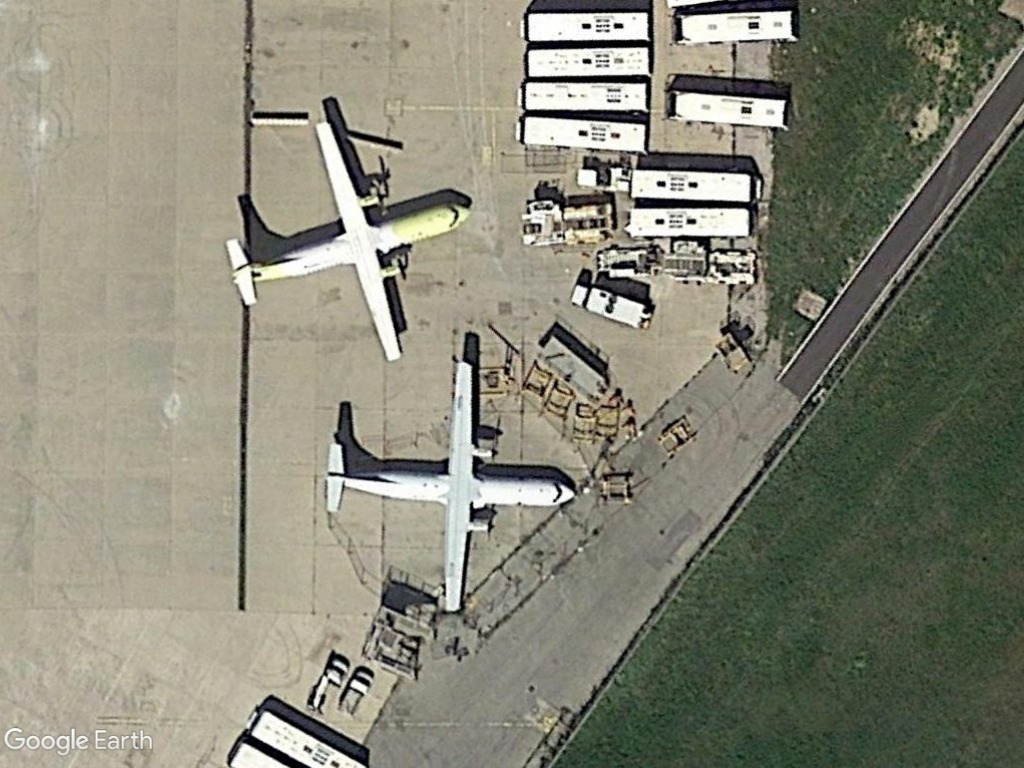bus: (661, 82, 798, 133), (624, 163, 763, 208), (513, 113, 652, 156), (621, 200, 756, 240), (671, 7, 801, 47), (520, 8, 653, 47), (517, 77, 650, 115), (520, 45, 654, 78)
propeller: (312, 357, 581, 622), (225, 116, 474, 368)
truck: (568, 280, 654, 333)
